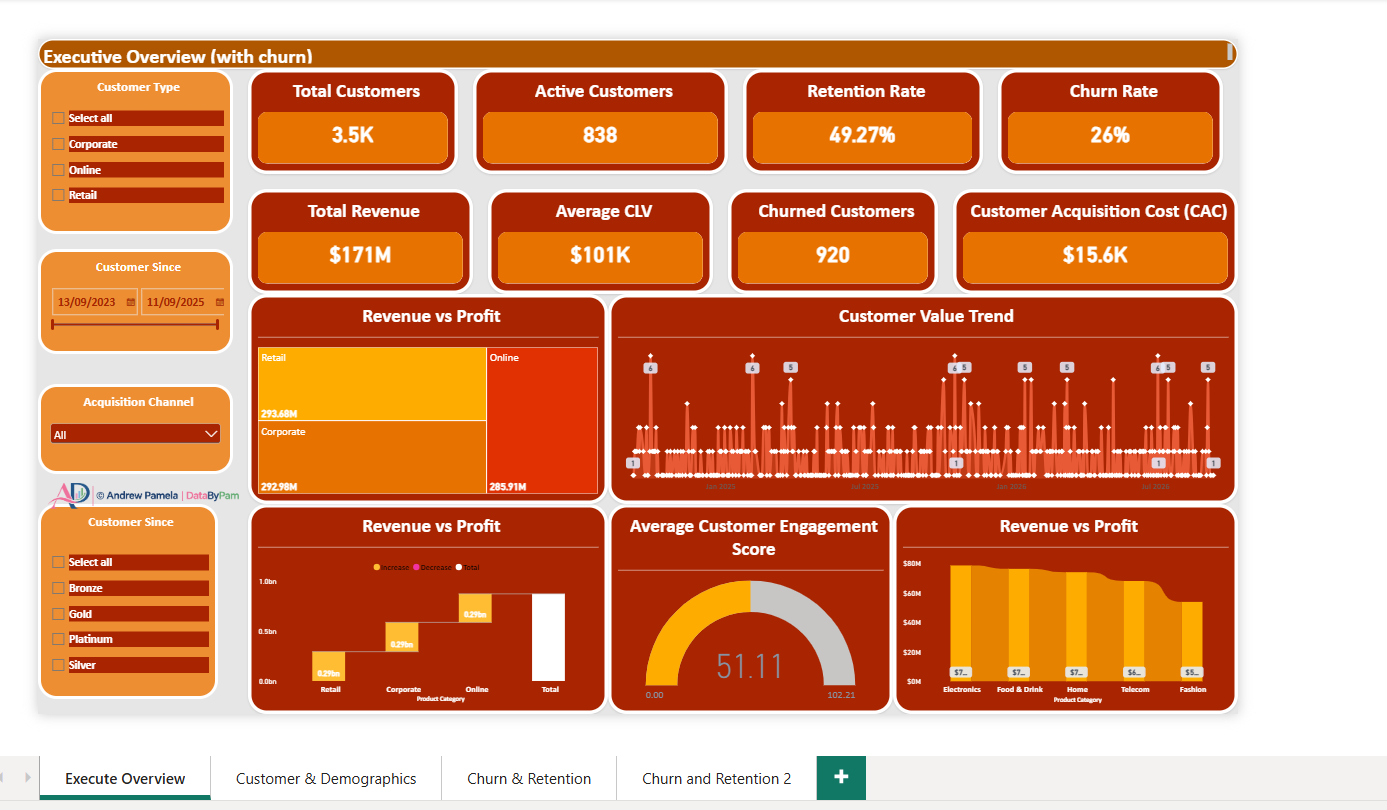

What the dashboard file says about the page in this screenshot:
{"tool":"powerbi","page":{"name":"Execute Overview","canvas":[1920,1080],"ordinal":0},"visuals":[{"type":"textbox","box":[0,0,1920,48],"z":0},{"type":"cardVisual","title":"Total Customers","fields":{"Data":["Count(customers.CustomerID)"]},"box":[336,48,336,168],"z":1000},{"type":"cardVisual","title":"Active Customers","fields":{"Data":["Count(customers.CustomerID)"]},"box":[696,48,408,168],"z":2000},{"type":"cardVisual","title":"Churned Customers","fields":{"Data":["Count(customers.CustomerID)"]},"box":[1104,240,336,168],"z":3000},{"type":"cardVisual","title":"Churn Rate","fields":{"Data":["customers.Churn Rate"]},"box":[1536,48,360,168],"z":4000},{"type":"cardVisual","title":"Retention Rate","fields":{"Data":["customers.Retention Rate"]},"box":[1128,48,384,168],"z":5000},{"type":"cardVisual","title":"Total Revenue ","fields":{"Data":["Sum(transactions.Revenue)"]},"box":[336,240,360,168],"z":6000},{"type":"cardVisual","title":"Average CLV","fields":{"Data":["Avg(customers.CLV)"]},"box":[720,240,360,168],"z":7000},{"type":"cardVisual","title":"Customer Acquisition Cost (CAC)","fields":{"Data":["churn_feature_importance.Customer Acquisition Cost"]},"box":[1464,240,456,168],"z":8000},{"type":"gauge","title":"Average Customer Engagement Score","fields":{"Y":["Avg(customers.Customer_Engagement_Score)"]},"box":[912,744,456,336],"z":9000},{"type":"areaChart","title":"Customer Value Trend","fields":{"Y":["Count(customers.CustomerID)"],"Category":["customers.Last_Purchase_Date"]},"box":[912,408,1008,336],"z":10000},{"type":"waterfallChart","title":"Revenue vs Profit","fields":{"Category":["customers.Customer_Type"],"Y":["Sum(customers.Total_Spending)"]},"box":[336,744,576,336],"z":11000},{"type":"ribbonChart","title":"Revenue vs Profit","fields":{"Category":["products.Product_Category"],"Y":["Sum(transactions.Revenue)"]},"box":[1368,744,552,336],"z":12000},{"type":"slicer","title":"Customer Type","fields":{"Values":["customers.Customer_Type"]},"box":[0,48,312,264],"z":13000},{"type":"slicer","title":"Customer Since","fields":{"Values":["customers.Customer_Since"]},"box":[0,336,312,168],"z":14000},{"type":"slicer","title":"Acquisition Channel","fields":{"Values":["customers.Churn_Status"]},"box":[0,552,312,144],"z":15000},{"type":"slicer","title":"Customer Since","fields":{"Values":["customers.Loyalty_Tier"]},"box":[0,744,288,312],"z":16000},{"type":"treemap","title":"Revenue vs Profit","fields":{"Group":["customers.Customer_Type"],"Values":["Sum(customers.Total_Spending)"]},"box":[336,408,576,336],"z":17000},{"type":"image","box":[0,592,336,288],"z":18000}]}

Visuals, with their boxes on the page's 1920x1080 design canvas (x1, y1, x2, y2). These are canvas units, not pixel positions in the 1387x810 screenshot, which may show the page scaled, cropped or inside an application window:
textbox: detection(0, 0, 1920, 48)
"Total Customers" cardVisual: detection(336, 48, 672, 216)
"Active Customers" cardVisual: detection(696, 48, 1104, 216)
"Churned Customers" cardVisual: detection(1104, 240, 1440, 408)
"Churn Rate" cardVisual: detection(1536, 48, 1896, 216)
"Retention Rate" cardVisual: detection(1128, 48, 1512, 216)
"Total Revenue " cardVisual: detection(336, 240, 696, 408)
"Average CLV" cardVisual: detection(720, 240, 1080, 408)
"Customer Acquisition Cost (CAC)" cardVisual: detection(1464, 240, 1920, 408)
"Average Customer Engagement Score" gauge: detection(912, 744, 1368, 1080)
"Customer Value Trend" areaChart: detection(912, 408, 1920, 744)
"Revenue vs Profit" waterfallChart: detection(336, 744, 912, 1080)
"Revenue vs Profit" ribbonChart: detection(1368, 744, 1920, 1080)
"Customer Type" slicer: detection(0, 48, 312, 312)
"Customer Since" slicer: detection(0, 336, 312, 504)
"Acquisition Channel" slicer: detection(0, 552, 312, 696)
"Customer Since" slicer: detection(0, 744, 288, 1056)
"Revenue vs Profit" treemap: detection(336, 408, 912, 744)
image: detection(0, 592, 336, 880)
